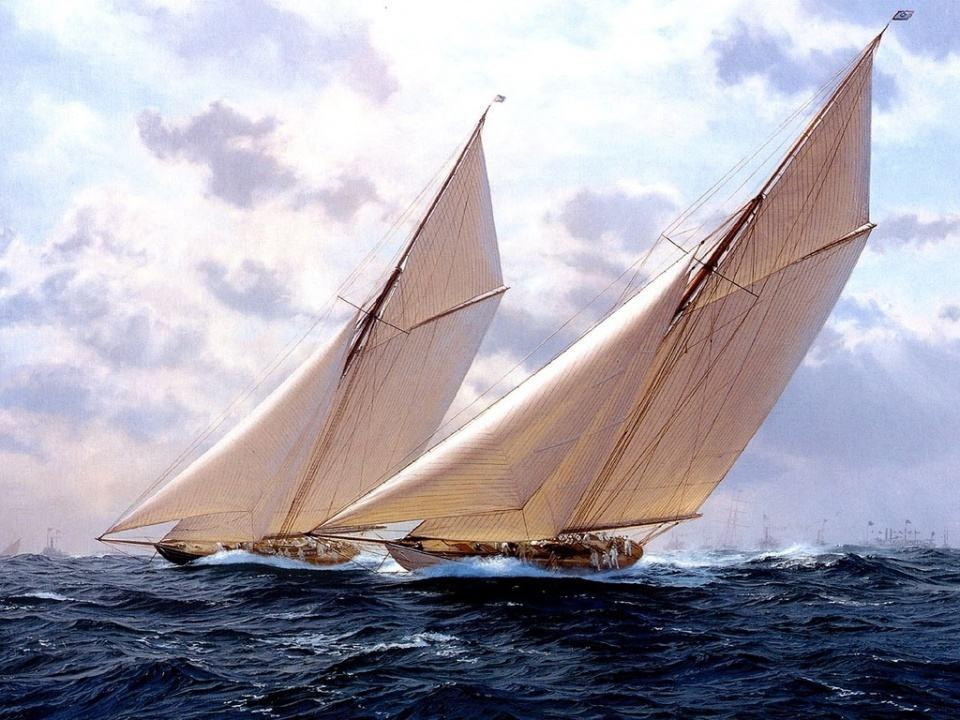fanchuan: (309, 13, 924, 600), (93, 92, 539, 575)
